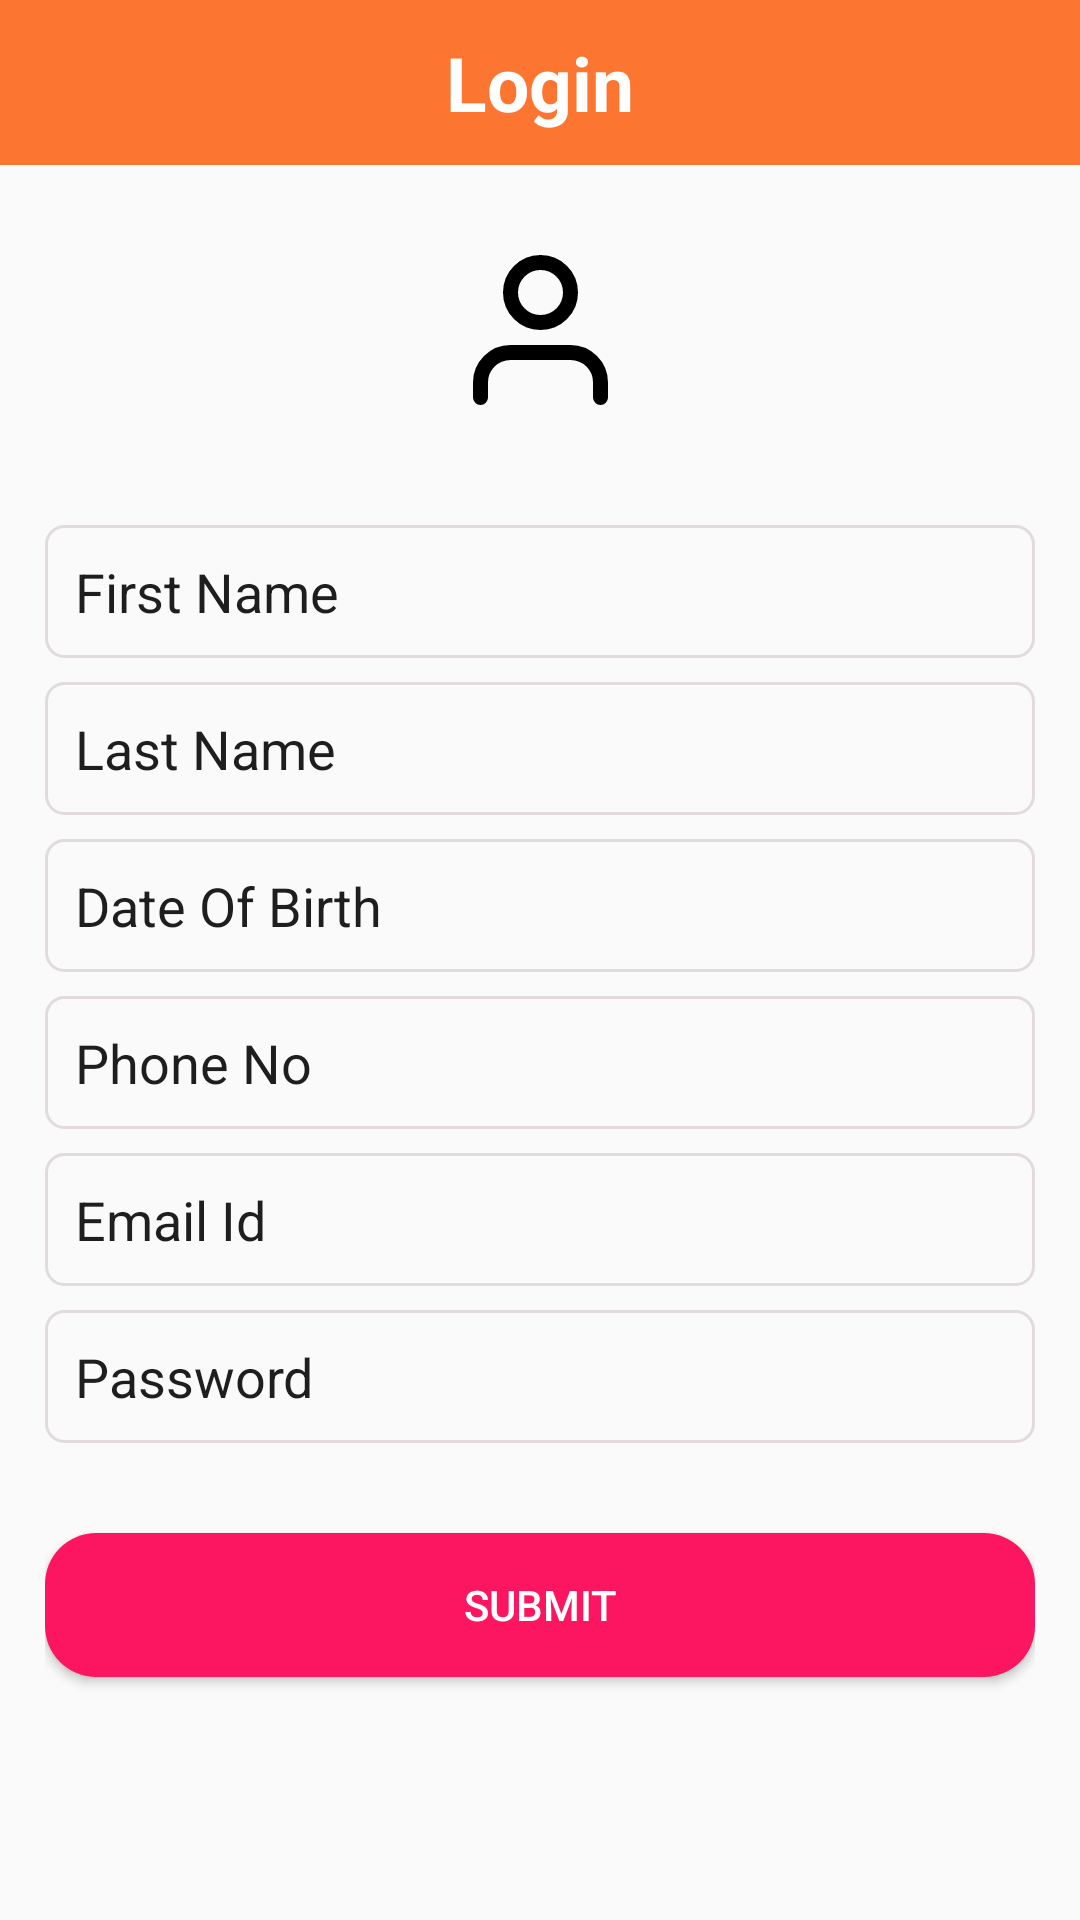

Icon bounding boxes for this 1080w x 1920h phone screenshot, format (x1,y1,x2,y2):
user: (473,255,608,405)
